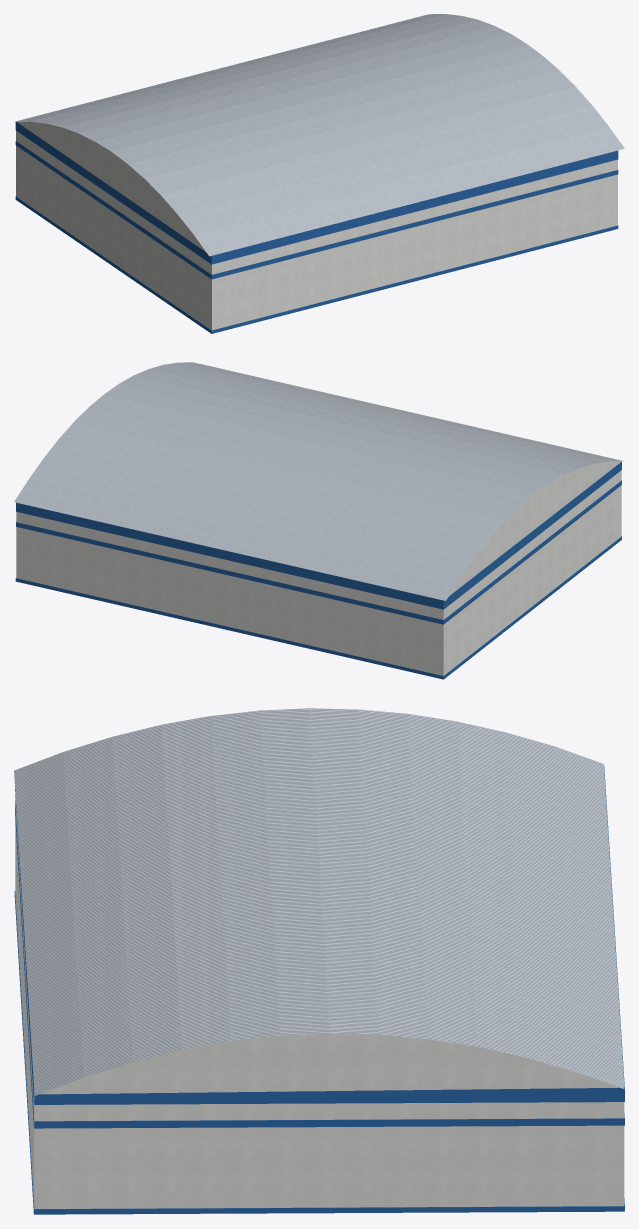
3 views of the same model, one above another, from view 1: azimuth 30°, elevation 25°; view 2: azimuth 150°, elevation 25°; view 3: azimuth 270°, elevation 25° (orthographic). The views are drawn at different scales.
Visible parts, largest first — view 1: B-w257433026_cubierta, B-w257433026_lejos, B-w257433026_molduras, B-w257433026_muros; view 2: B-w257433026_cubierta, B-w257433026_lejos, B-w257433026_muros, B-w257433026_molduras; view 3: B-w257433026_cubierta, B-w257433026_lejos, B-w257433026_muros, B-w257433026_molduras.
Part boxes in pixels (x1,y1,x2,y2): B-w257433026_cubierta: (15, 14, 624, 256); B-w257433026_lejos: (30, 142, 617, 330); B-w257433026_molduras: (15, 15, 618, 333); B-w257433026_muros: (16, 131, 548, 333); B-w257433026_cubierta: (14, 362, 623, 600); B-w257433026_lejos: (16, 470, 621, 670); B-w257433026_muros: (132, 520, 557, 675); B-w257433026_molduras: (15, 365, 621, 679); B-w257433026_cubierta: (14, 708, 624, 1095); B-w257433026_lejos: (15, 797, 623, 1208); B-w257433026_muros: (20, 886, 624, 1208); B-w257433026_molduras: (14, 765, 624, 1214).
Size of the model in its own units: 60.46 by 15.5 by 46.99.
Materials: 6 (3 with a texture image).
